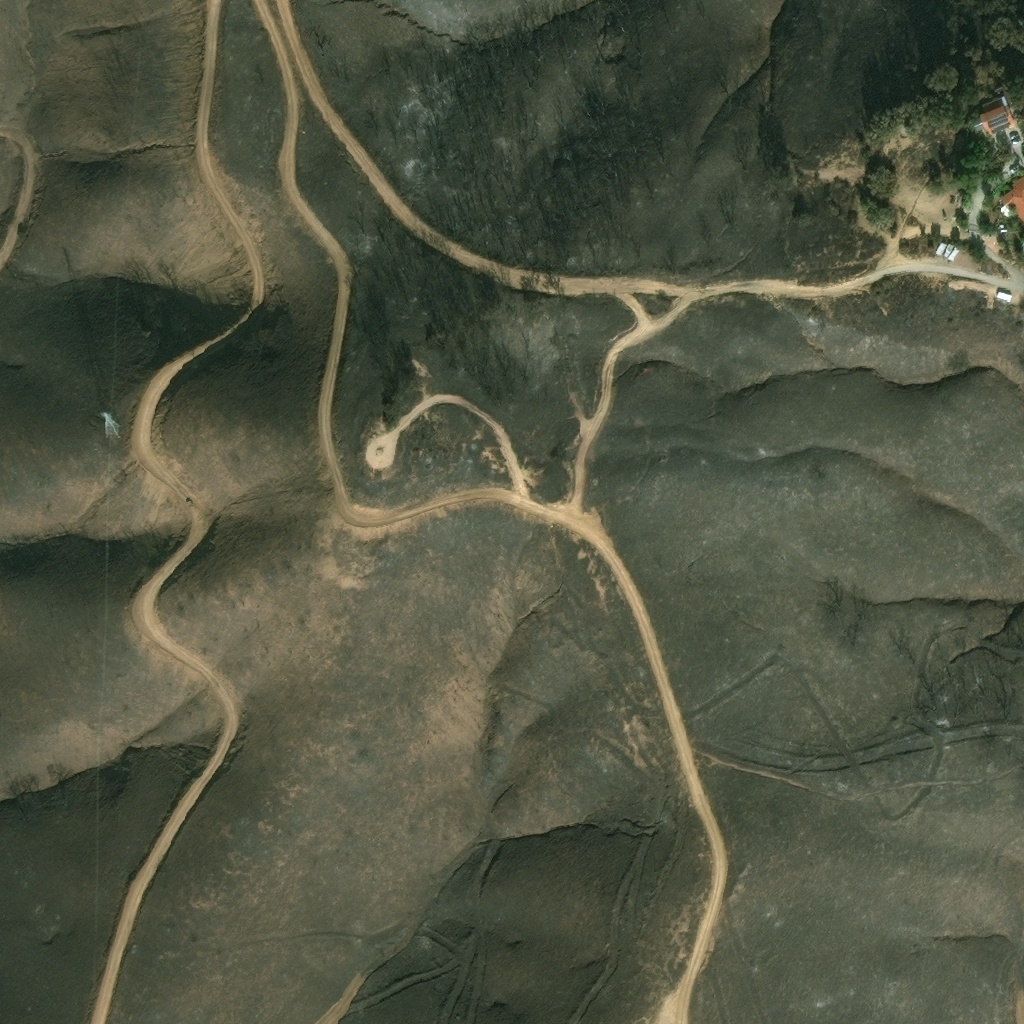0 no-damage: (969, 94, 1015, 135), (999, 173, 1023, 222), (934, 239, 959, 261), (998, 289, 1015, 303)
